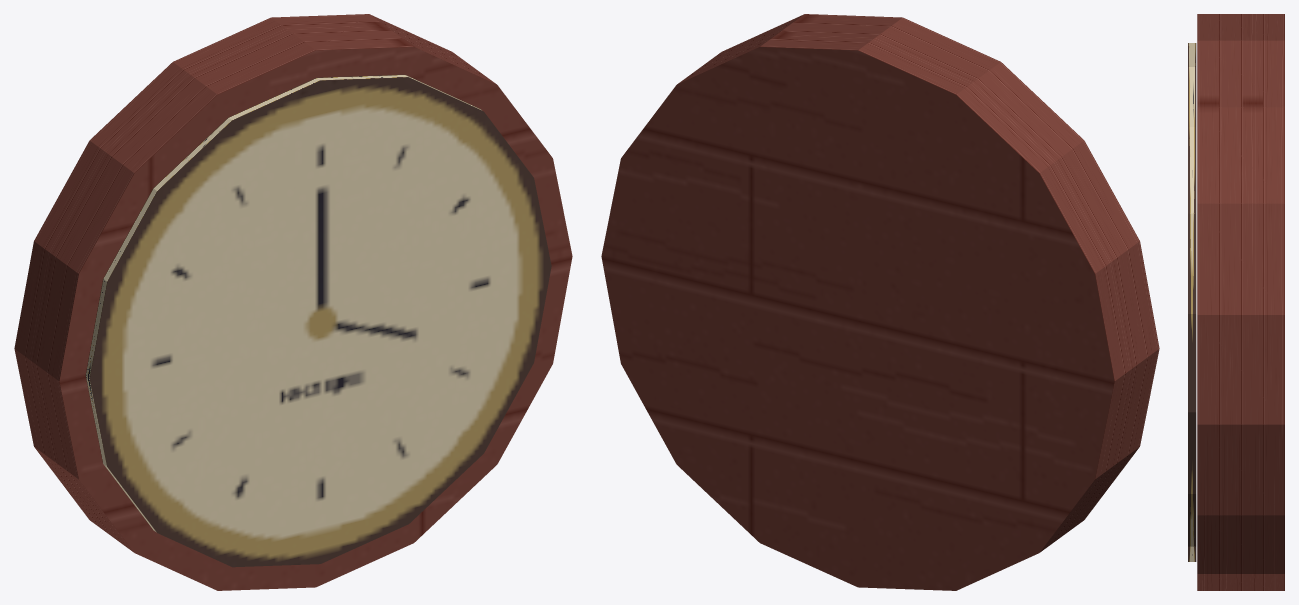
The model's file is MD_36_WallClock.fbx.
3 renders of one model, left to right at view 1: azimuth 30°, elevation 25°; view 2: azimuth 150°, elevation 25°; view 3: azimuth 270°, elevation 25°, orthographic. The views are drawn at different scales.
Visible parts, largest first — view 1: MD_36_WallClock_clock_face, MD_36_WallClock_clock_case; view 2: MD_36_WallClock_clock_case; view 3: MD_36_WallClock_clock_case, MD_36_WallClock_clock_face.
Part boxes in pixels (x1,y1,x2,y2): MD_36_WallClock_clock_face: (85,74,551,567); MD_36_WallClock_clock_case: (14,14,572,590); MD_36_WallClock_clock_case: (601,14,1159,590); MD_36_WallClock_clock_case: (1197,14,1284,590); MD_36_WallClock_clock_face: (1188,43,1196,561).
Size of the model in its own units: 0.56 by 0.56 by 0.094.
Materials: 2 (2 with a texture image).
